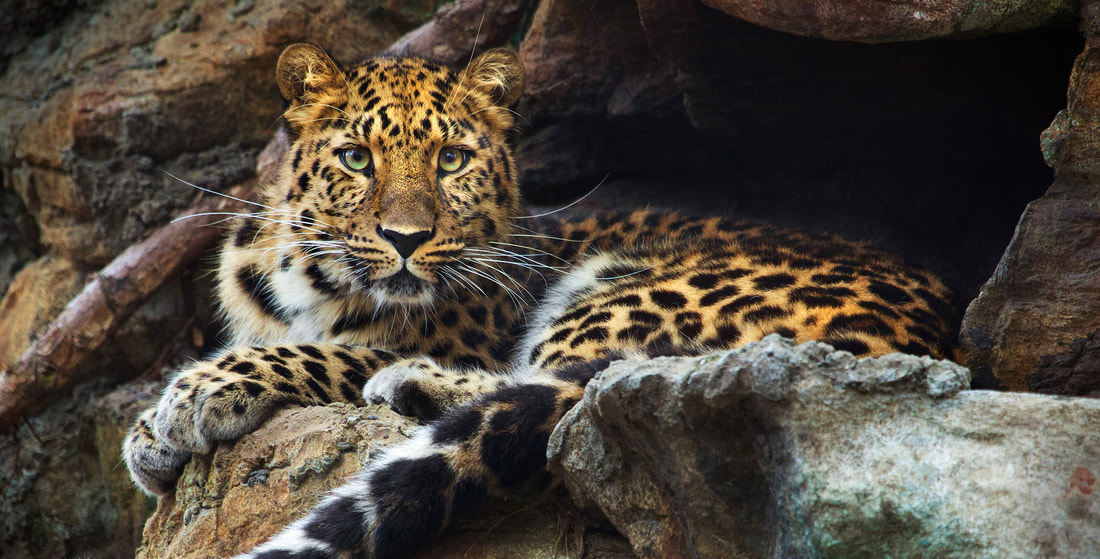amur_leopard: (227, 33, 958, 387)
